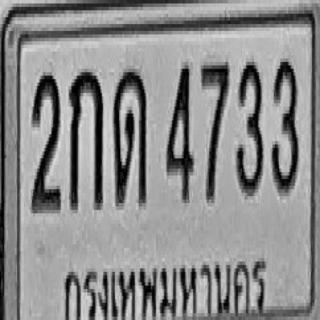A01: (69, 69, 103, 210)
A20: (114, 67, 147, 205)
N02: (31, 70, 60, 212)
N03: (235, 58, 263, 196), (271, 57, 299, 194)
N04: (165, 60, 193, 201)
N07: (201, 60, 229, 201)
